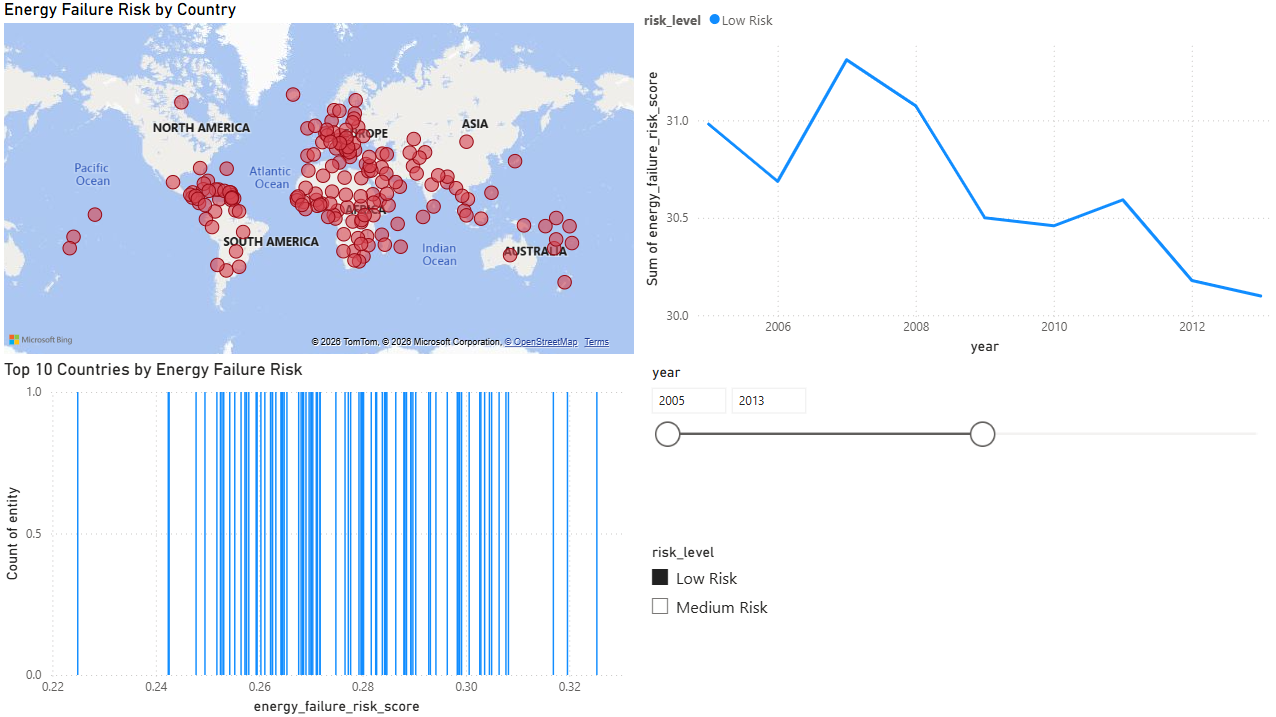

What the dashboard file says about the page in this screenshot:
{"tool":"powerbi","page":{"name":"Page 1","canvas":[1280,720],"ordinal":0},"visuals":[{"type":"map","title":"Energy Failure Risk by Country","fields":{"Category":["energy_failure_final.entity"]},"box":[0,0,640,360],"z":0},{"type":"lineChart","fields":{"Category":["energy_failure_final.year"],"Y":["Sum(energy_failure_final.energy_failure_risk_score)"],"Series":["energy_failure_final.risk_level"]},"box":[640,0,640,360],"z":1000},{"type":"clusteredColumnChart","title":"Top 10 Countries by Energy Failure Risk","fields":{"Y":["CountNonNull(energy_failure_final.entity)"],"Category":["energy_failure_final.energy_failure_risk_score"]},"box":[0,360,640,360],"z":2000},{"type":"slicer","fields":{"Values":["energy_failure_final.year"]},"box":[640,360,640,180],"z":3000},{"type":"slicer","fields":{"Values":["energy_failure_final.risk_level"]},"box":[640,540,576.2,180],"z":4000}]}

Visuals, with their boxes in screenshot pixels (x1, y1, x2, y2), scaled from the page's 1280x720 canvas onto the 1276x717 screenshot:
"Energy Failure Risk by Country" map: (0, 0, 638, 358)
lineChart - energy_failure_final.year x Sum(energy_failure_final.energy_failure_risk_score): (638, 0, 1275, 358)
"Top 10 Countries by Energy Failure Risk" clusteredColumnChart: (0, 358, 638, 716)
slicer - energy_failure_final.year: (638, 358, 1275, 538)
slicer - energy_failure_final.risk_level: (638, 538, 1212, 716)
